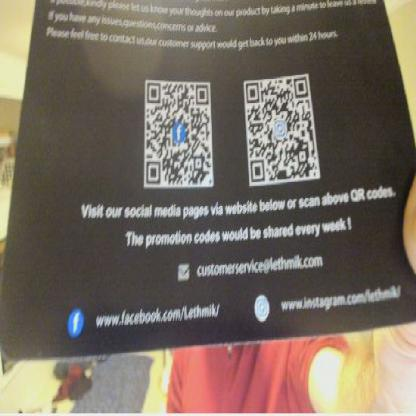qr: (238, 73, 328, 188), (140, 76, 221, 191)
